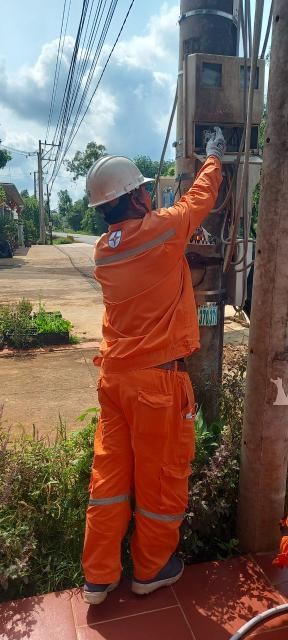gloves: (196, 124, 235, 158)
helmet: (72, 151, 155, 211)
shoes: (118, 541, 188, 597), (70, 558, 128, 603)
